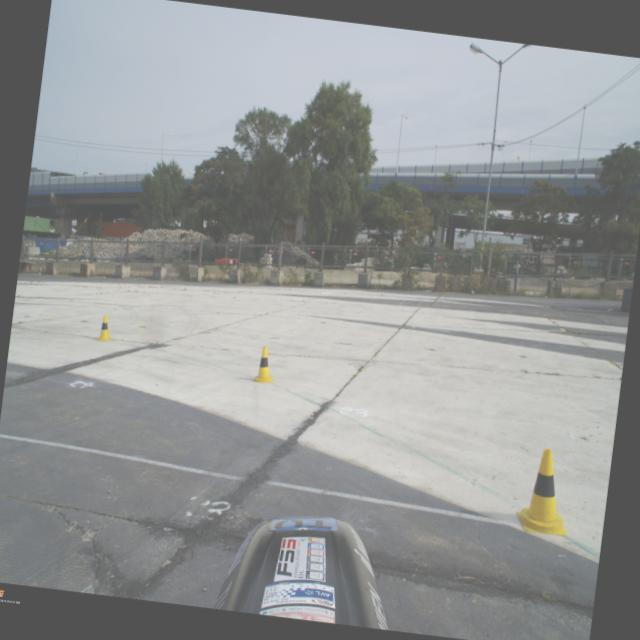yellow_cone: (514, 446, 576, 536), (252, 345, 278, 385), (95, 314, 115, 342)
